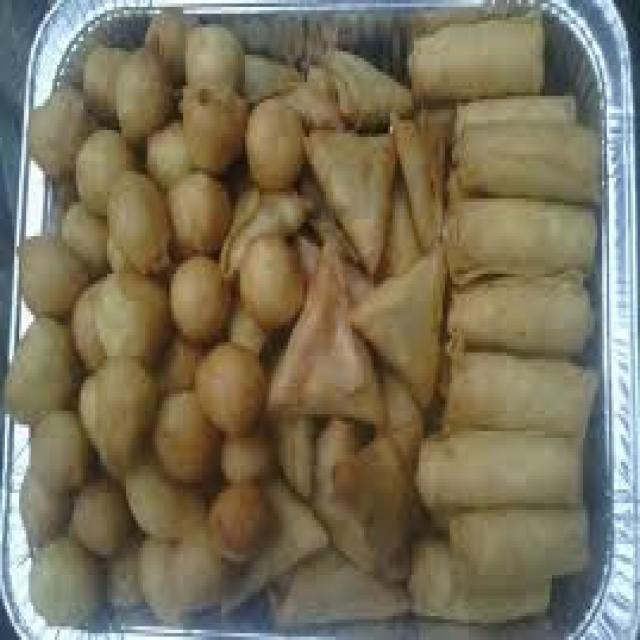Samosa: (223, 24, 442, 619)
Spring Rolls: (409, 6, 609, 612)
